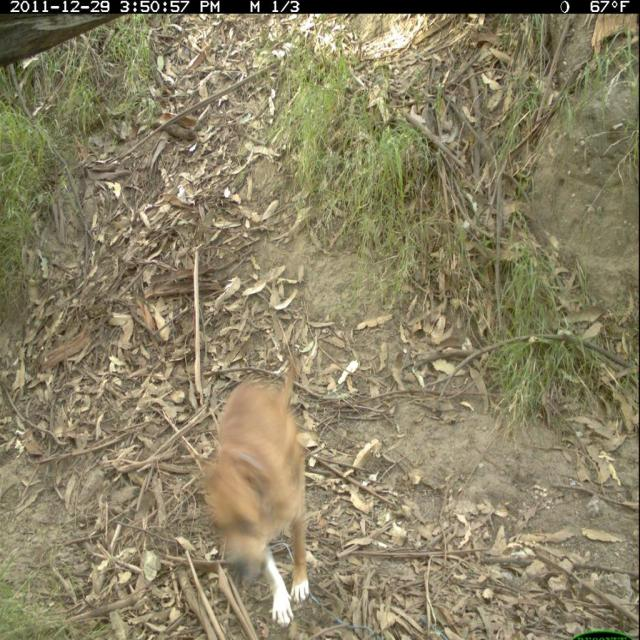dog: (194, 342, 319, 631)
